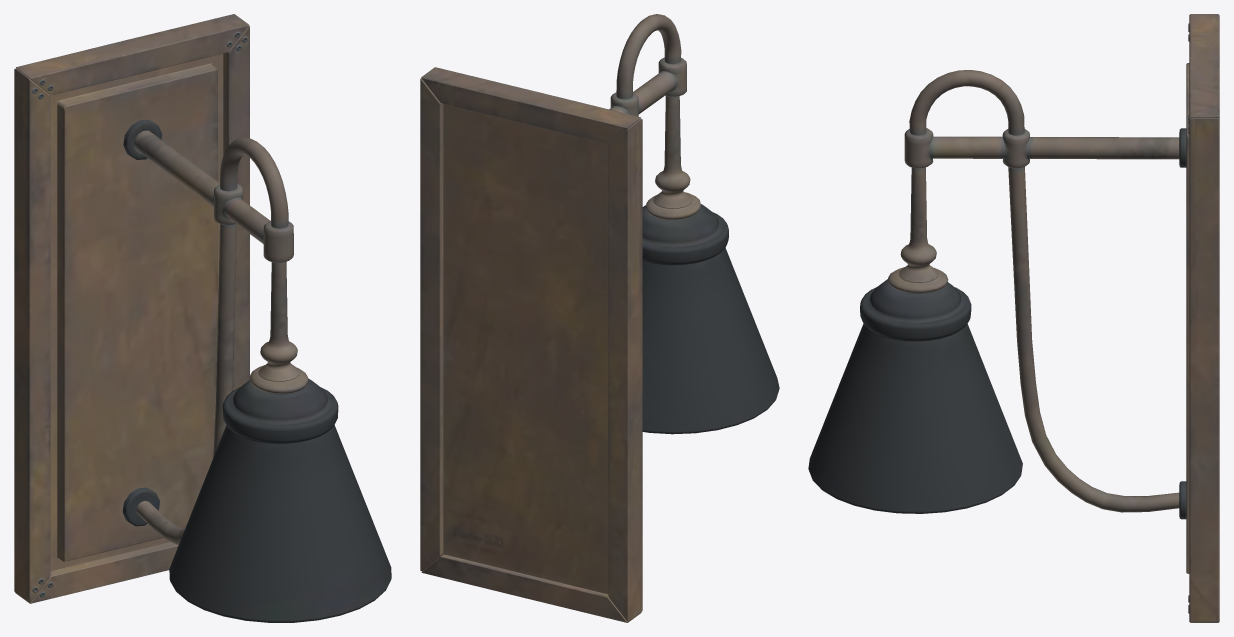
File: industrial_wall_sconce.glb
3 views of the same model, side by side, from view 1: azimuth 30°, elevation 25°; view 2: azimuth 150°, elevation 25°; view 3: azimuth 270°, elevation 25° (orthographic). The views are drawn at different scales.
Parts seen in each view (by area): view 1: industrial_wall_sconce; view 2: industrial_wall_sconce; view 3: industrial_wall_sconce.
Part boxes in pixels (x1,y1,x2,y2): industrial_wall_sconce: (14,14,391,622); industrial_wall_sconce: (420,14,779,622); industrial_wall_sconce: (808,14,1219,622).
Size of the model in its own units: 0.1504 by 0.3418 by 0.2516.
Materials: 2 (2 with a texture image).
